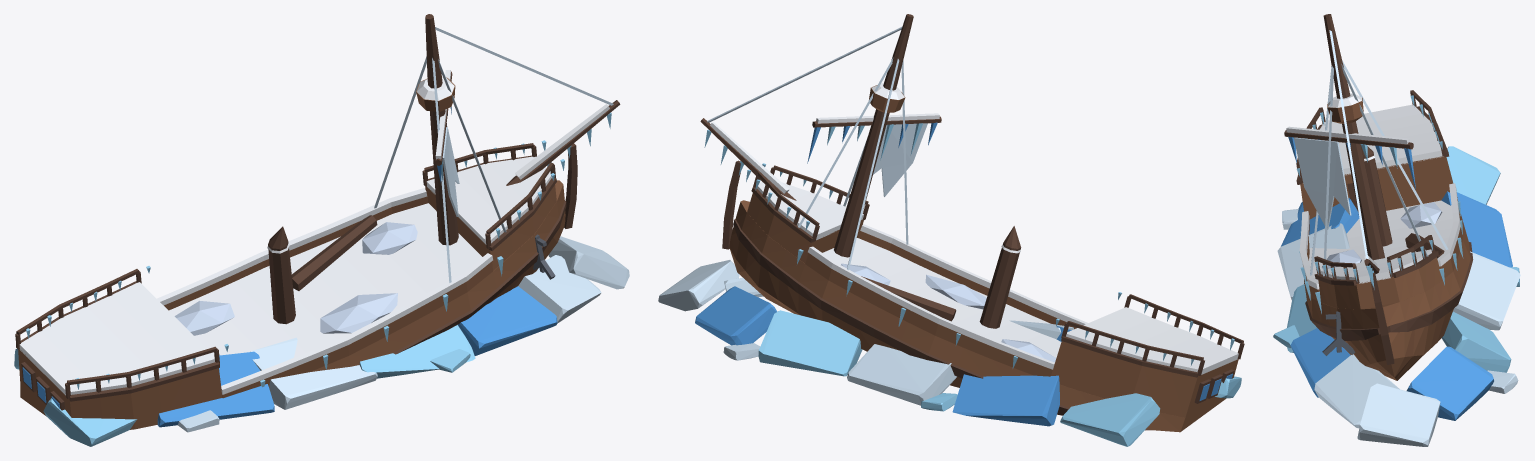
The model's file is Tundra_2_FrozenShip.fbx.
3 renders of one model, left to right at view 1: azimuth 30°, elevation 25°; view 2: azimuth 150°, elevation 25°; view 3: azimuth 270°, elevation 25°, orthographic. The views are drawn at different scales.
Parts seen in each view (by area): view 1: Tundra_2_FrozenShip__Tundra_Snow, Tundra_2_FrozenShip__Tundra_Wood, Tundra_2_FrozenShip__Tundra_Trunk, Tundra_2_FrozenShip__Tundra_Frost, Tundra_2_FrozenShip__Tundra_IceDeep, Tundra_2_FrozenShip__Tundra_Ice, Tundra_2_FrozenShip__Tundra_SnowShade; view 2: Tundra_2_FrozenShip__Tundra_Wood, Tundra_2_FrozenShip__Tundra_Snow, Tundra_2_FrozenShip__Tundra_Trunk, Tundra_2_FrozenShip__Tundra_Frost, Tundra_2_FrozenShip__Tundra_Ice, Tundra_2_FrozenShip__Tundra_IceDeep, Tundra_2_FrozenShip__Tundra_SnowShade; view 3: Tundra_2_FrozenShip__Tundra_Frost, Tundra_2_FrozenShip__Tundra_Wood, Tundra_2_FrozenShip__Tundra_Trunk, Tundra_2_FrozenShip__Tundra_Snow, Tundra_2_FrozenShip__Tundra_IceDeep, Tundra_2_FrozenShip__Tundra_Ice, Tundra_2_FrozenShip__Tundra_SnowShade, Tundra_2_FrozenShip__Common_Iron.
Part boxes in pixels (left/top/right/bottom): Tundra_2_FrozenShip__Tundra_Snow: left=19, top=70, right=609, bottom=395; Tundra_2_FrozenShip__Tundra_Wood: left=18, top=77, right=565, bottom=429; Tundra_2_FrozenShip__Tundra_Trunk: left=15, top=14, right=620, bottom=410; Tundra_2_FrozenShip__Tundra_Frost: left=178, top=27, right=629, bottom=432; Tundra_2_FrozenShip__Tundra_IceDeep: left=22, top=107, right=557, bottom=427; Tundra_2_FrozenShip__Tundra_Ice: left=14, top=112, right=611, bottom=446; Tundra_2_FrozenShip__Tundra_SnowShade: left=174, top=222, right=417, bottom=335; Tundra_2_FrozenShip__Tundra_Wood: left=729, top=85, right=1238, bottom=432; Tundra_2_FrozenShip__Tundra_Snow: left=710, top=83, right=1238, bottom=374; Tundra_2_FrozenShip__Tundra_Trunk: left=700, top=14, right=1244, bottom=430; Tundra_2_FrozenShip__Tundra_Frost: left=658, top=26, right=1073, bottom=405; Tundra_2_FrozenShip__Tundra_Ice: left=704, top=123, right=1241, bottom=446; Tundra_2_FrozenShip__Tundra_IceDeep: left=695, top=122, right=1232, bottom=426; Tundra_2_FrozenShip__Tundra_SnowShade: left=841, top=263, right=1056, bottom=362; Tundra_2_FrozenShip__Tundra_Frost: left=1277, top=30, right=1520, bottom=446; Tundra_2_FrozenShip__Tundra_Wood: left=1300, top=97, right=1470, bottom=380; Tundra_2_FrozenShip__Tundra_Trunk: left=1284, top=14, right=1473, bottom=364; Tundra_2_FrozenShip__Tundra_Snow: left=1286, top=93, right=1460, bottom=289; Tundra_2_FrozenShip__Tundra_IceDeep: left=1281, top=136, right=1512, bottom=420; Tundra_2_FrozenShip__Tundra_Ice: left=1273, top=95, right=1519, bottom=372; Tundra_2_FrozenShip__Tundra_SnowShade: left=1321, top=202, right=1442, bottom=269; Tundra_2_FrozenShip__Common_Iron: left=1322, top=311, right=1355, bottom=355.
Bounding box in the file's own units: 114 × 61.2 × 42.21.
